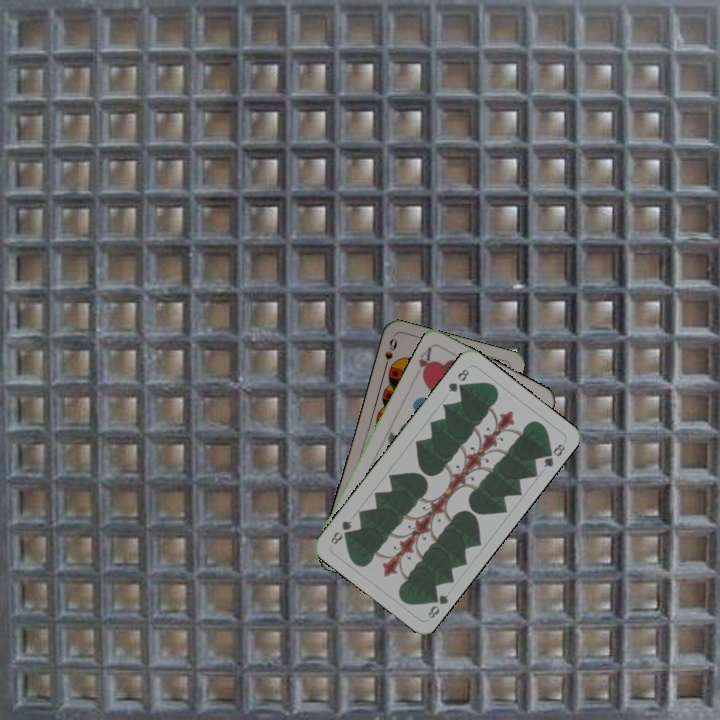G8: (444, 364, 472, 395), (424, 589, 451, 621)
HA: (414, 342, 435, 382)
S9: (380, 334, 400, 373)
